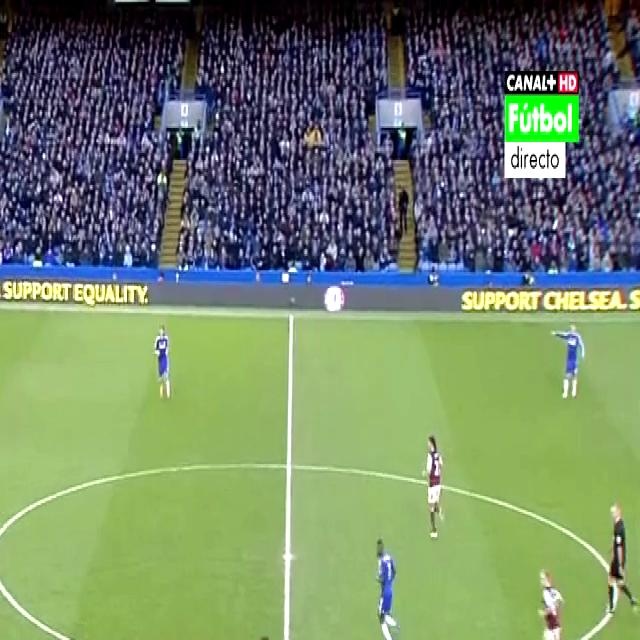referee: (602, 494, 638, 628)
soccer-player: (364, 526, 402, 640), (417, 422, 448, 549), (546, 318, 584, 413), (527, 556, 568, 640), (147, 312, 176, 408), (247, 626, 298, 640)
